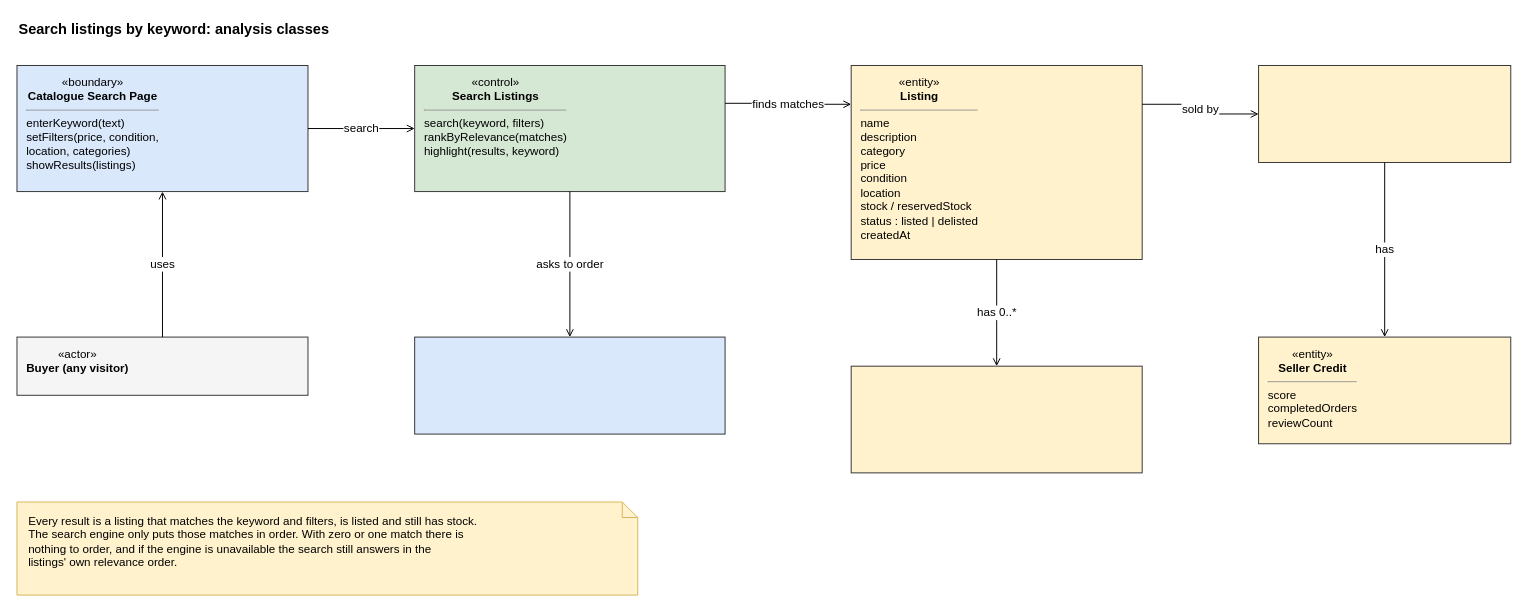
Image size: 1528x612. Some labels were removed from this diagram. Each missing label, with the centre of its shape:
«boundary» Search Engine rank(keyword, filters) : ordered listing ids: the point at 569,385
«entity» Listing Media url type : image | video sortOrder: the point at 996,419
«entity» Seller displayName avatar: the point at 1384,113
